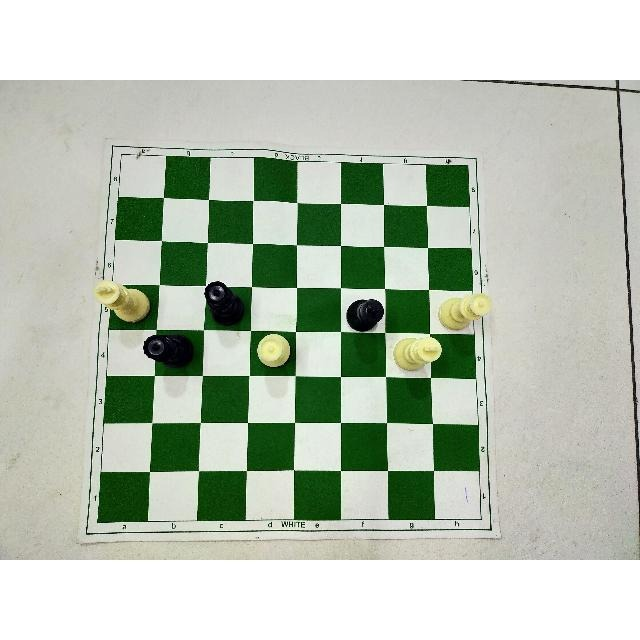black-king: (346, 297, 386, 333)
black-queen: (203, 282, 247, 326), (143, 332, 195, 369)
white-king: (91, 279, 153, 325), (390, 332, 444, 374)
white-queen: (436, 291, 494, 332), (253, 331, 293, 372), (256, 332, 292, 372)
